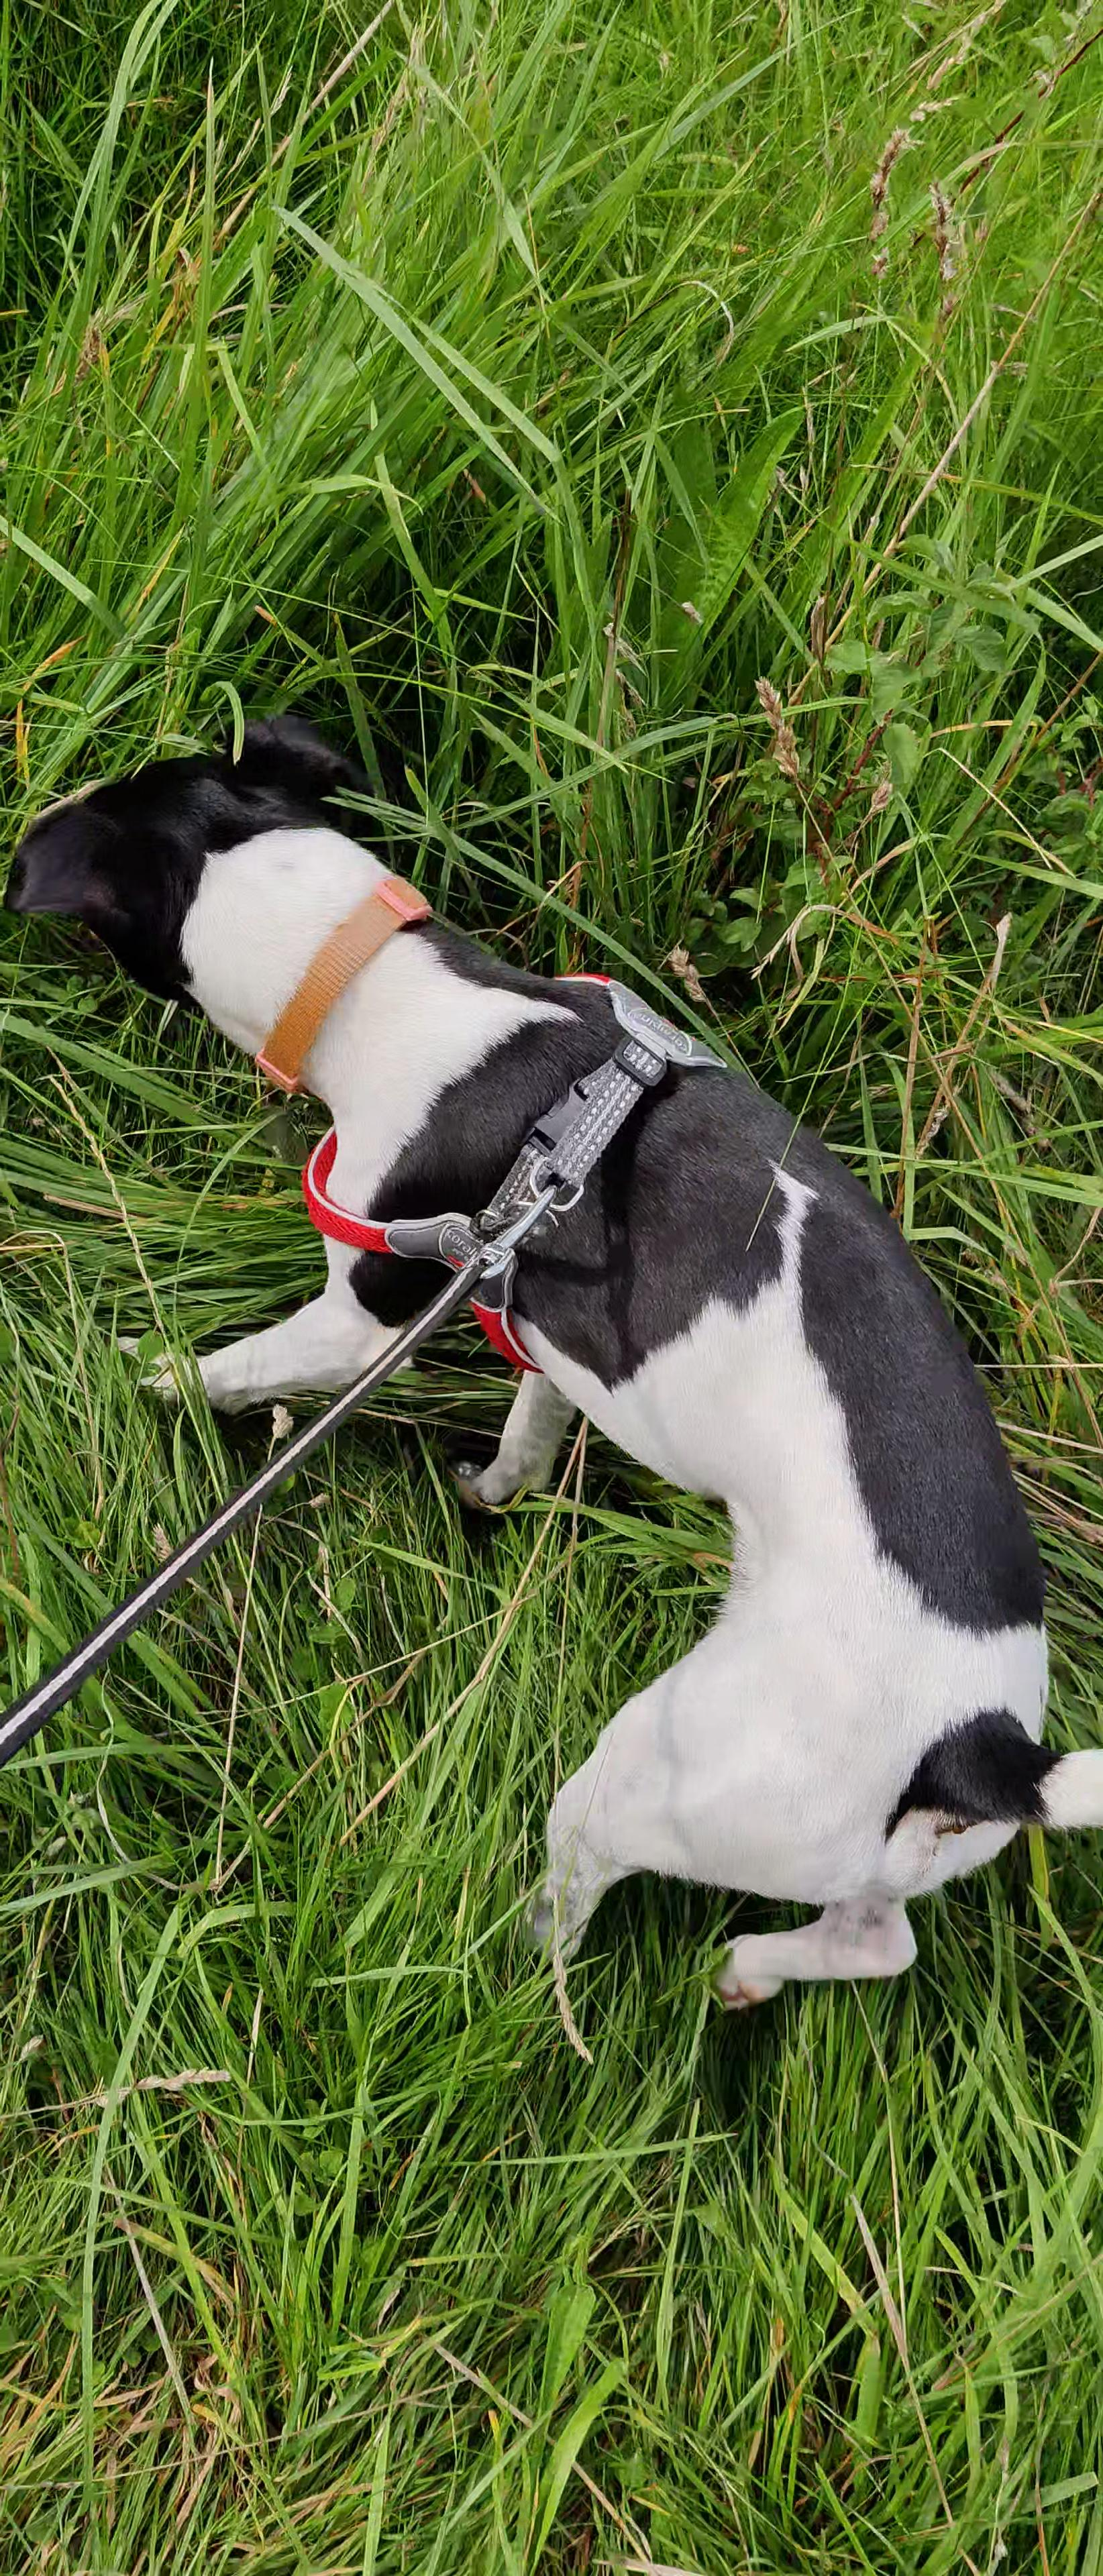Dog: (0, 701, 1103, 2024)
